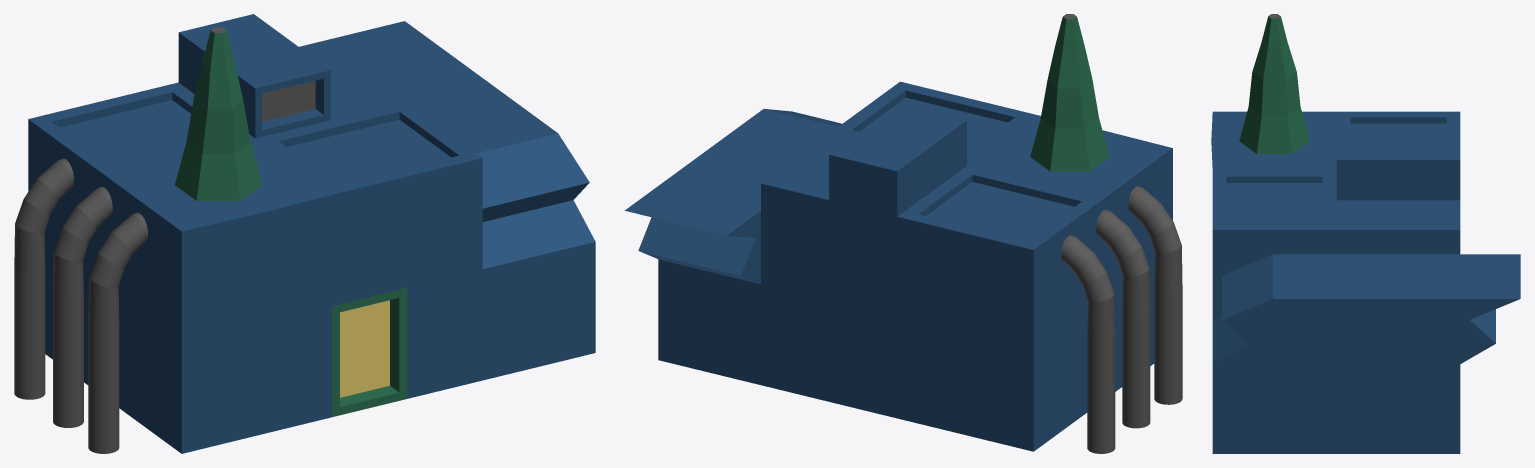
Rendered from Factory.fbx.
The picture shows the model from 3 angles, left to right: view 1: azimuth 30°, elevation 25°; view 2: azimuth 150°, elevation 25°; view 3: azimuth 270°, elevation 25°; orthographic projection. The views are drawn at different scales.
Parts seen in each view (by area): view 1: Factory, Exhaust.001, Exhaust.002, Exhaust; view 2: Factory, Exhaust, Exhaust.002, Exhaust.001; view 3: Factory.
Part boxes in pixels (bbox=[...]): Factory: bbox=[28, 14, 595, 453]; Exhaust.001: bbox=[14, 158, 73, 399]; Exhaust.002: bbox=[88, 212, 147, 453]; Exhaust: bbox=[53, 187, 112, 427]; Factory: bbox=[625, 14, 1172, 451]; Exhaust: bbox=[1096, 209, 1150, 428]; Exhaust.002: bbox=[1128, 186, 1182, 404]; Exhaust.001: bbox=[1061, 235, 1115, 453]; Factory: bbox=[1211, 14, 1520, 453].
Size of the model in its own units: 16179 by 13068 by 11583.
